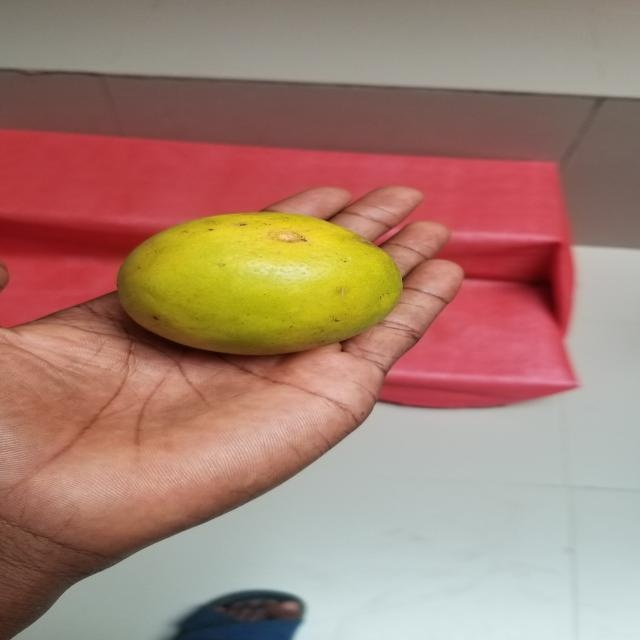agrume: (118, 208, 414, 363)
